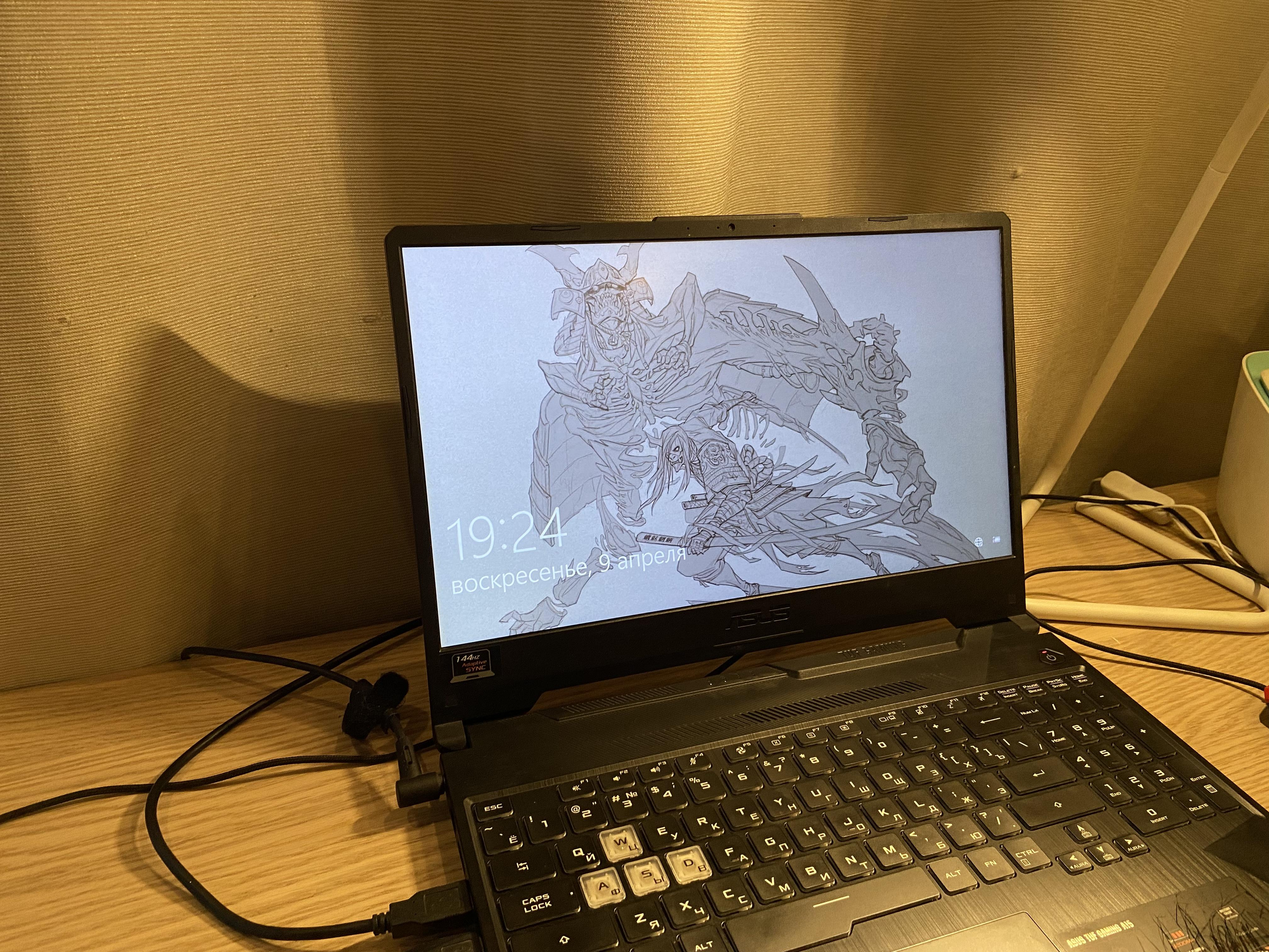monitor: (376, 201, 1028, 730)
